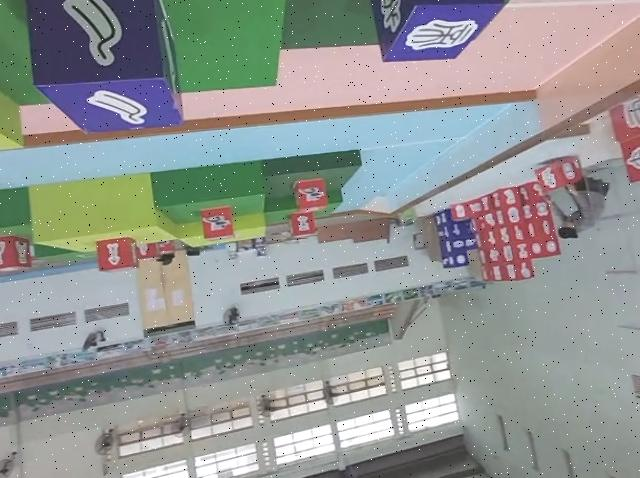R2 Fake Blue: (367, 0, 503, 63)
R2 Real Blue: (30, 0, 185, 133)
